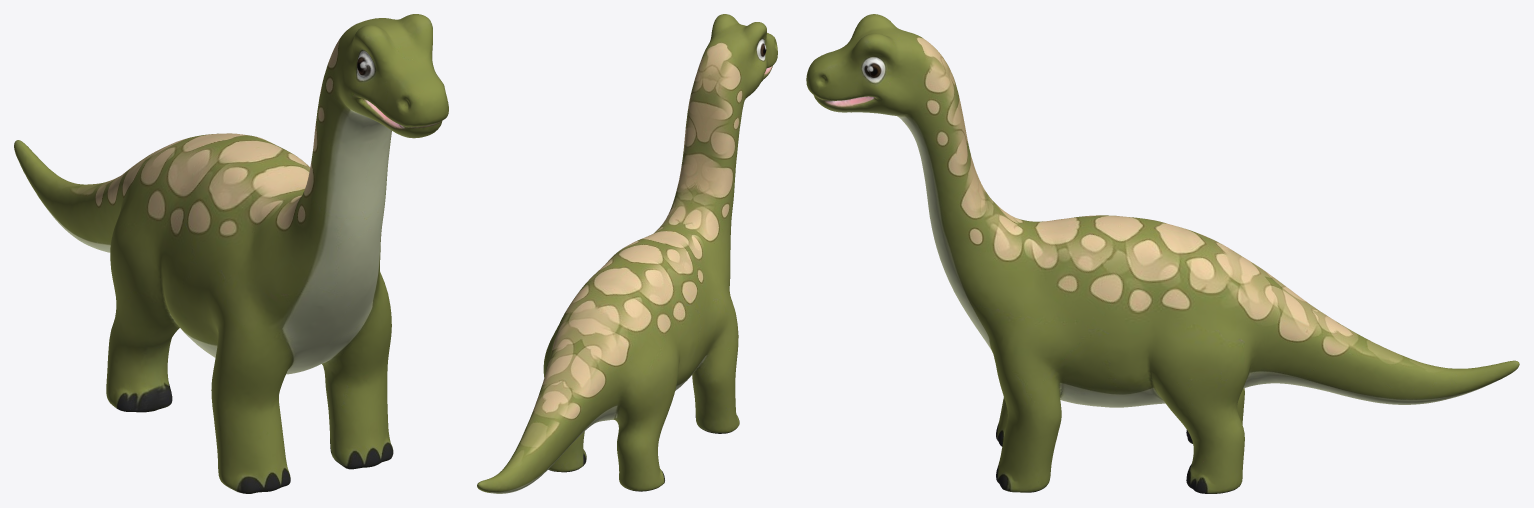
File: B-brachiosauro.glb
3 renders of one model, left to right at view 1: azimuth 30°, elevation 25°; view 2: azimuth 150°, elevation 25°; view 3: azimuth 270°, elevation 25°, orthographic. The views are drawn at different scales.
Size of the model in its own units: 0.4431 by 1.28 by 1.9.
1 material, 1 textured.
